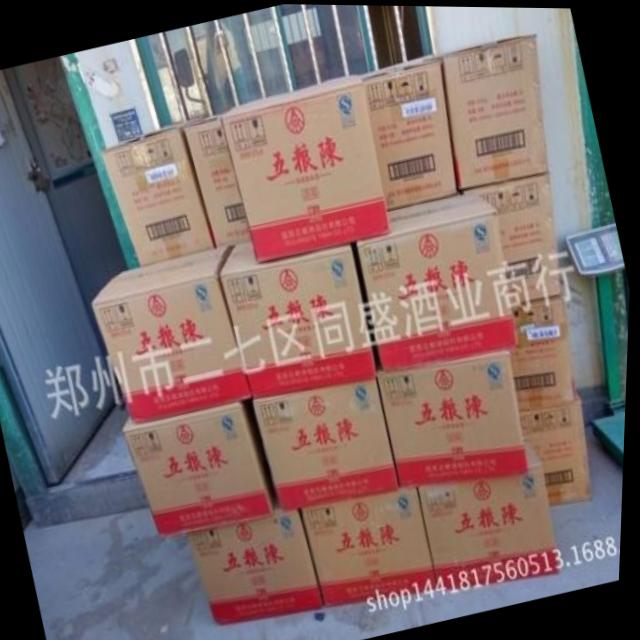box: (223, 72, 393, 264), (359, 187, 521, 370), (95, 240, 256, 422), (219, 236, 381, 396), (421, 429, 566, 587), (381, 343, 533, 484), (124, 399, 279, 536), (422, 32, 551, 188), (253, 380, 403, 510), (305, 482, 446, 608), (101, 118, 217, 265), (191, 508, 329, 624), (361, 58, 461, 209), (474, 169, 560, 301), (185, 107, 252, 244), (522, 387, 595, 502), (509, 290, 578, 410)
